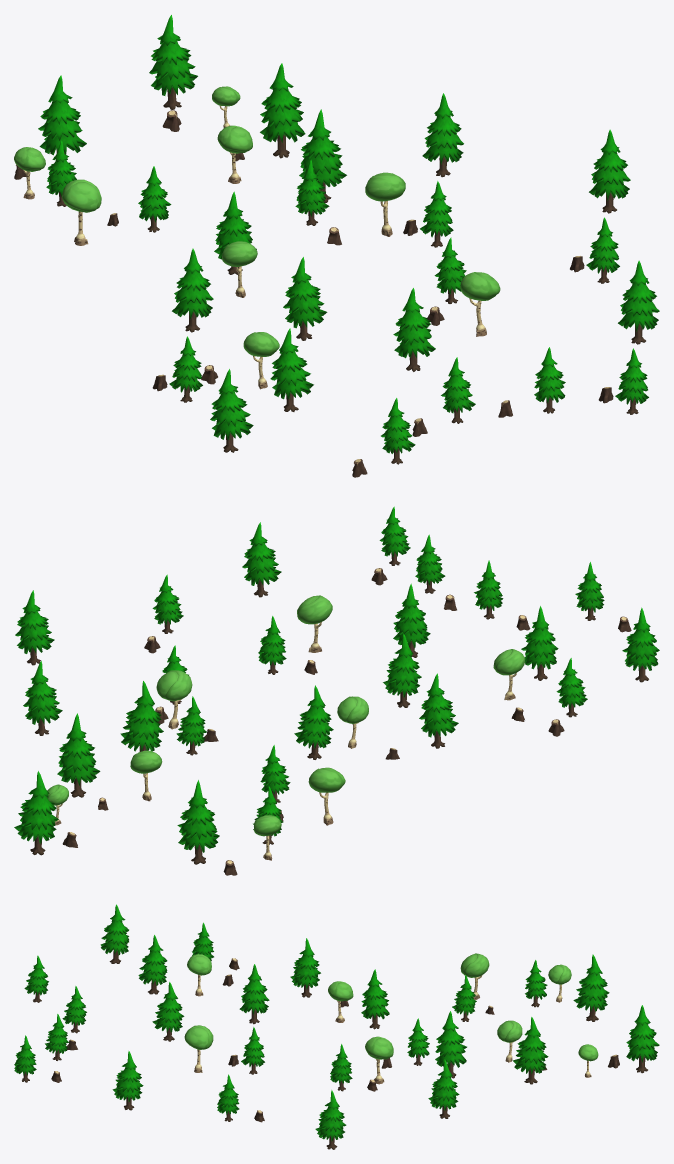
File: Nature.fbx
3 views of the same model, one above another, from view 1: azimuth 30°, elevation 25°; view 2: azimuth 150°, elevation 25°; view 3: azimuth 270°, elevation 25° (orthographic). The views are drawn at different scales.
Parts seen in each view (by area): view 1: Mobile_forestpack_tree_fir_tall, Mobile_forestpack_tree_fir_tall (1), Mobile_forestpack_tree_fir_tall (7), Mobile_forestpack_tree_fir_tall (8), Mobile_forestpack_tree_fir_tall (4), Mobile_forestpack_tree_fir_tall (13), Mobile_forestpack_tree_fir_tall (15), Mobile_forestpack_tree_fir_tall (23), Mobile_forestpack_tree_fir_tall (17), Mobile_forestpack_tree_fir_tall (19), Mobile_forestpack_tree_fir_tall (11), Mobile_forestpack_tree_fir_tall (21) (+19 smaller); view 2: Mobile_forestpack_tree_fir_tall (1), Mobile_forestpack_tree_fir_tall, Mobile_forestpack_tree_fir_tall (7), Mobile_forestpack_tree_fir_tall (8), Mobile_forestpack_tree_fir_tall (5), Mobile_forestpack_tree_fir_tall (17), Mobile_forestpack_tree_fir_tall (23), Mobile_forestpack_tree_fir_tall (19), Mobile_forestpack_tree_fir_tall (21), Mobile_forestpack_tree_fir_tall (4), Mobile_forestpack_tree_fir_tall (15), Mobile_forestpack_tree_fir_tall (13) (+17 smaller); view 3: Mobile_forestpack_tree_fir_tall (7), Mobile_forestpack_tree_fir_tall (1), Mobile_forestpack_tree_fir_tall, Mobile_forestpack_tree_fir_tall (8), Mobile_forestpack_tree_fir_tall (13), Mobile_forestpack_tree_fir_tall (19), Mobile_forestpack_tree_fir_tall (11), Mobile_forestpack_tree_fir_tall (17), Mobile_forestpack_tree_fir_tall (23), Mobile_forestpack_tree_fir_tall (21), Mobile_forestpack_tree_fir_tall (15), Mobile_forestpack_tree_fir_tall (5) (+19 smaller).
Boxes of the visible parts, x1,y1,x2,y2 form: Mobile_forestpack_tree_fir_tall: (149, 15, 197, 109); Mobile_forestpack_tree_fir_tall (1): (260, 63, 305, 158); Mobile_forestpack_tree_fir_tall (7): (38, 75, 86, 155); Mobile_forestpack_tree_fir_tall (8): (299, 109, 346, 203); Mobile_forestpack_tree_fir_tall (4): (283, 257, 327, 340); Mobile_forestpack_tree_fir_tall (13): (270, 328, 313, 411); Mobile_forestpack_tree_fir_tall (15): (210, 369, 253, 452); Mobile_forestpack_tree_fir_tall (23): (589, 129, 630, 213); Mobile_forestpack_tree_fir_tall (17): (618, 260, 659, 344); Mobile_forestpack_tree_fir_tall (19): (172, 248, 213, 332); Mobile_forestpack_tree_fir_tall (11): (393, 288, 435, 371); Mobile_forestpack_tree_fir_tall (21): (422, 93, 463, 177); Mobile_forestpack_tree_fir_tall (1): (57, 713, 100, 797); Mobile_forestpack_tree_fir_tall: (14, 771, 58, 855); Mobile_forestpack_tree_fir_tall (7): (177, 780, 219, 864); Mobile_forestpack_tree_fir_tall (8): (120, 681, 163, 751); Mobile_forestpack_tree_fir_tall (5): (294, 685, 333, 759); Mobile_forestpack_tree_fir_tall (17): (242, 522, 281, 597); Mobile_forestpack_tree_fir_tall (23): (15, 590, 54, 665); Mobile_forestpack_tree_fir_tall (19): (419, 673, 458, 748); Mobile_forestpack_tree_fir_tall (21): (23, 661, 62, 735); Mobile_forestpack_tree_fir_tall (4): (383, 633, 421, 707); Mobile_forestpack_tree_fir_tall (15): (622, 607, 659, 682); Mobile_forestpack_tree_fir_tall (13): (521, 606, 558, 680); Mobile_forestpack_tree_fir_tall (7): (573, 954, 609, 1021); Mobile_forestpack_tree_fir_tall (1): (512, 1017, 548, 1084); Mobile_forestpack_tree_fir_tall: (626, 1005, 659, 1073); Mobile_forestpack_tree_fir_tall (8): (435, 1011, 466, 1078); Mobile_forestpack_tree_fir_tall (13): (138, 935, 167, 994); Mobile_forestpack_tree_fir_tall (19): (290, 938, 320, 997); Mobile_forestpack_tree_fir_tall (11): (152, 982, 184, 1041); Mobile_forestpack_tree_fir_tall (17): (112, 1051, 143, 1110); Mobile_forestpack_tree_fir_tall (23): (315, 1090, 346, 1149); Mobile_forestpack_tree_fir_tall (21): (428, 1059, 459, 1118); Mobile_forestpack_tree_fir_tall (15): (100, 904, 128, 963); Mobile_forestpack_tree_fir_tall (5): (361, 969, 389, 1029).
Size of what is drawn, in the model's own units: 99.76 by 16.13 by 138.
Materials: 3 (3 with a texture image).
